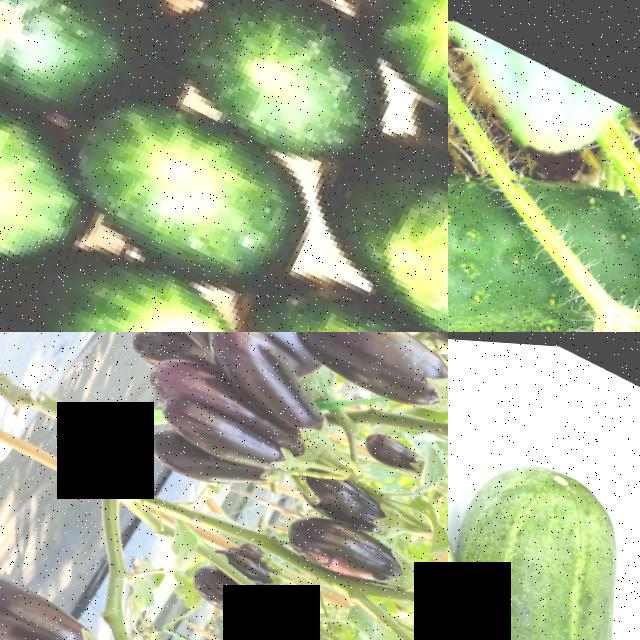cucumber: (54, 69, 338, 307), (152, 0, 421, 182), (448, 430, 640, 640), (448, 62, 581, 332), (305, 98, 448, 332), (0, 214, 266, 332), (0, 0, 182, 146), (291, 0, 448, 151), (217, 241, 448, 332), (31, 0, 313, 35)
eggplant: (206, 332, 356, 443), (282, 494, 431, 597), (153, 379, 303, 481), (283, 332, 448, 422), (136, 416, 268, 506), (0, 546, 117, 640), (182, 558, 302, 638), (317, 466, 412, 538), (358, 417, 431, 473)
